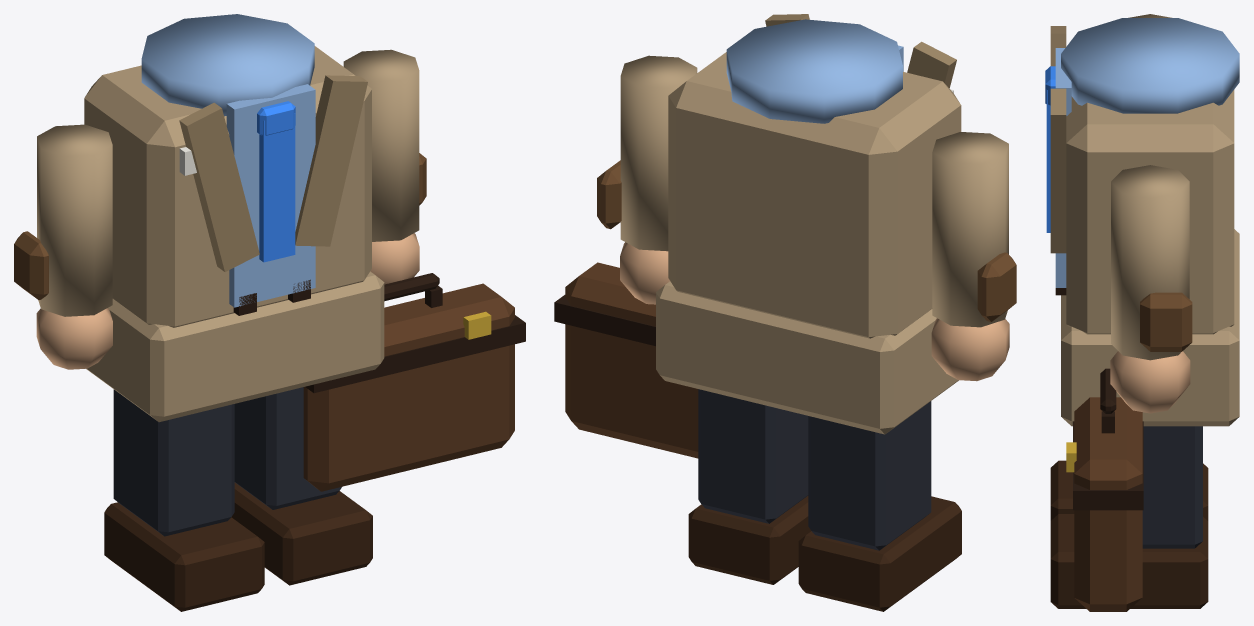
Rendered from saez.glb.
3 views of the same model, side by side, from view 1: azimuth 30°, elevation 25°; view 2: azimuth 150°, elevation 25°; view 3: azimuth 270°, elevation 25° (orthographic).
Parts seen in each view (by area): view 1: torso, case, coat_skirt, thigh_L, upperarm_L, collar, shoe_L, upperarm_R, shoe_R, shirt, thigh_R, lapel_L (+8 smaller); view 2: torso, coat_skirt, case, collar, thigh_L, upperarm_L, thigh_R, shoe_L, upperarm_R, shoe_R, hand_L, hand_R (+4 smaller); view 3: torso, collar, case, upperarm_R, coat_skirt, thigh_R, shoe_R, hand_R, elbow_R, lapel_R, case_band, shoe_L (+7 smaller).
Part boxes in pixels (<box>): torso: <box>84,46,371,327</box>; case: <box>303,283,514,491</box>; coat_skirt: <box>86,271,384,422</box>; thigh_L: <box>113,389,234,536</box>; upperarm_L: <box>37,124,112,316</box>; collar: <box>141,14,314,116</box>; shoe_L: <box>104,502,264,611</box>; upperarm_R: <box>343,49,419,241</box>; shoe_R: <box>231,482,372,585</box>; shirt: <box>226,84,315,307</box>; thigh_R: <box>234,387,341,509</box>; lapel_L: <box>179,102,259,271</box>; torso: <box>668,52,961,338</box>; coat_skirt: <box>656,281,958,434</box>; case: <box>565,262,698,458</box>; collar: <box>726,19,902,123</box>; thigh_L: <box>808,401,931,550</box>; upperarm_L: <box>932,132,1008,327</box>; thigh_R: <box>698,389,808,523</box>; shoe_L: <box>798,496,961,611</box>; upperarm_R: <box>620,55,697,251</box>; shoe_R: <box>688,496,810,584</box>; hand_L: <box>931,318,1009,381</box>; hand_R: <box>620,242,669,304</box>; torso: <box>1066,90,1234,334</box>; collar: <box>1061,18,1239,113</box>; case: <box>1074,397,1142,611</box>; upperarm_R: <box>1111,165,1189,360</box>; coat_skirt: <box>1061,229,1239,426</box>; thigh_R: <box>1142,426,1202,548</box>; shoe_R: <box>1050,514,1208,608</box>; hand_R: <box>1110,351,1190,413</box>; elbow_R: <box>1140,292,1192,351</box>; lapel_R: <box>1050,88,1066,253</box>; case_band: <box>1073,421,1143,510</box>; shoe_L: <box>1050,460,1208,520</box>.
Size of the model in its own units: 1.02 by 1.07 by 0.37.
